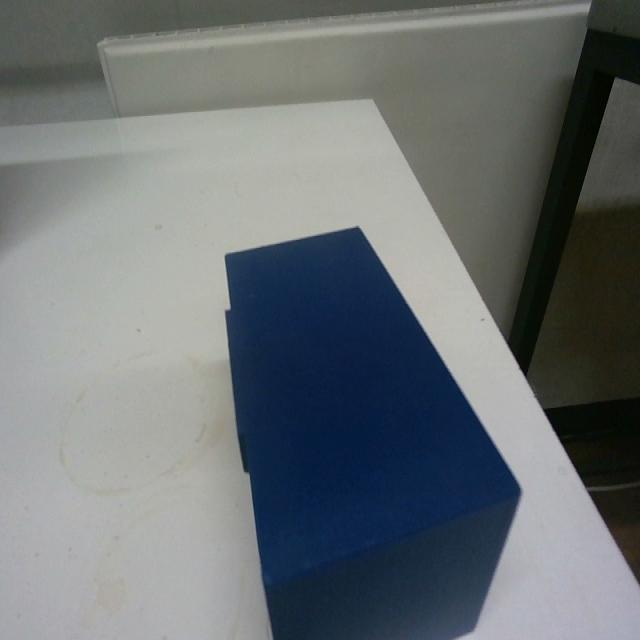Blue Cuboid: (220, 222, 523, 638)
